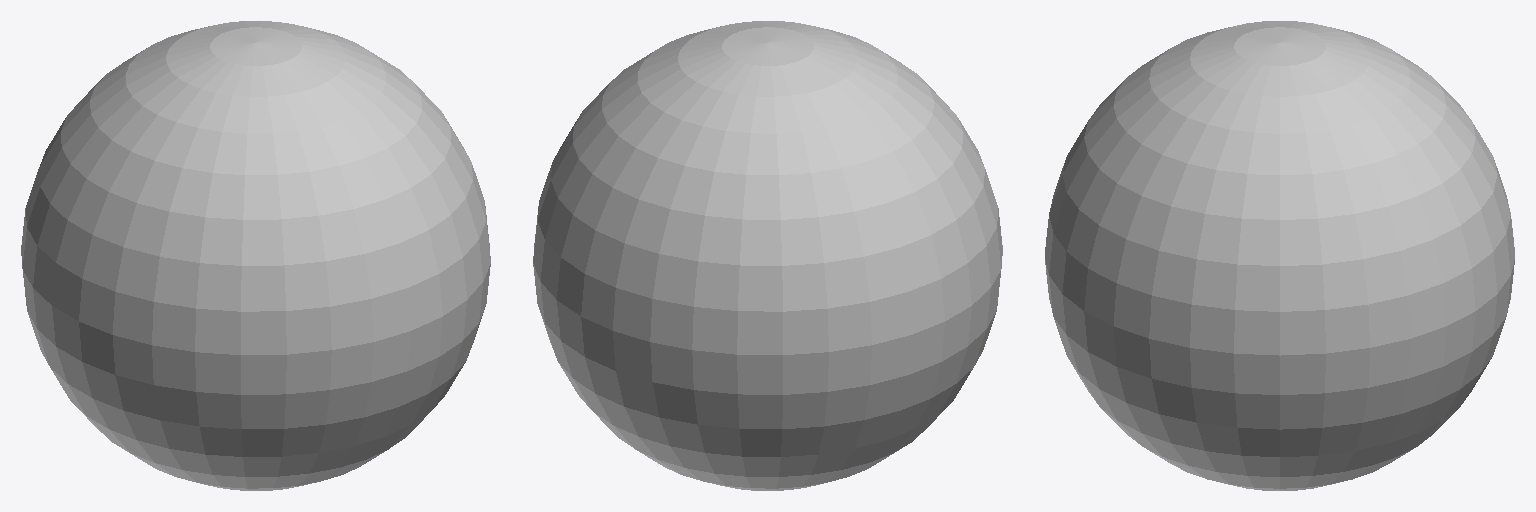
The model's file is mesh_body.obj.
3 views of the same model, side by side, from view 1: azimuth 30°, elevation 25°; view 2: azimuth 150°, elevation 25°; view 3: azimuth 270°, elevation 25° (orthographic).
Parts seen in each view (by area): view 1: Sphere.021_Sphere.013; view 2: Sphere.021_Sphere.013; view 3: Sphere.021_Sphere.013.
Part boxes in pixels (left/top/right/bottom): Sphere.021_Sphere.013: left=21, top=21, right=490, bottom=490; Sphere.021_Sphere.013: left=533, top=21, right=1002, bottom=490; Sphere.021_Sphere.013: left=1045, top=21, right=1514, bottom=490.
Size of the model in its own units: 0.2 by 0.2 by 0.2.